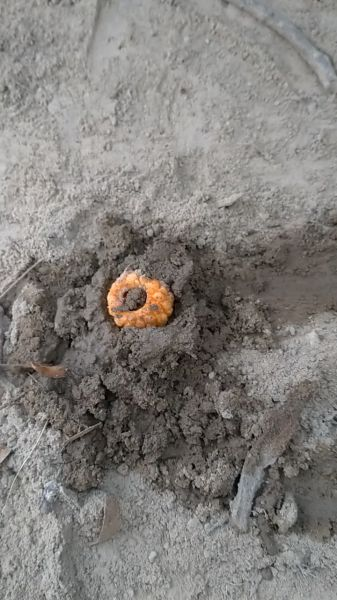eggs: (100, 266, 180, 339)
